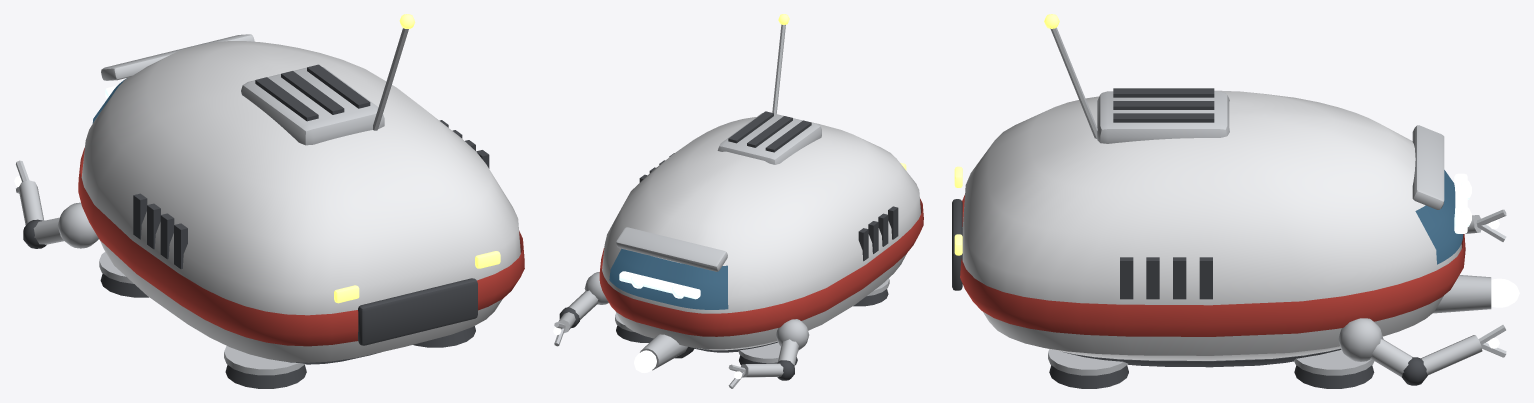
The model's file is exocomp.glb.
The picture shows the model from 3 angles, left to right: view 1: azimuth 30°, elevation 25°; view 2: azimuth 150°, elevation 25°; view 3: azimuth 270°, elevation 25°; orthographic projection. The views are drawn at different scales.
Parts seen in each view (by area): view 1: BodyMesh, ArmLMesh; view 2: BodyMesh, ArmLMesh, ArmRMesh, EmitterMesh, Light; view 3: BodyMesh, ArmRMesh, EmitterMesh, Light, ArmLMesh.
Boxes of the visible parts, x1,y1,x2,y2 form: BodyMesh: [78, 14, 524, 388]; ArmLMesh: [14, 160, 98, 248]; BodyMesh: [599, 14, 923, 365]; ArmLMesh: [728, 319, 809, 388]; ArmRMesh: [553, 272, 608, 346]; EmitterMesh: [634, 334, 694, 372]; Light: [619, 271, 700, 299]; BodyMesh: [952, 14, 1471, 388]; ArmRMesh: [1338, 318, 1506, 385]; EmitterMesh: [1432, 275, 1519, 313]; Light: [1454, 173, 1467, 233]; ArmLMesh: [1465, 209, 1506, 241].
Bounding box in the file's own units: 1.36 × 1.4 × 2.13.
